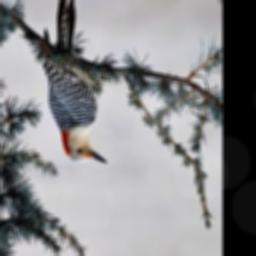Woodpecker: (43, 0, 108, 165)
